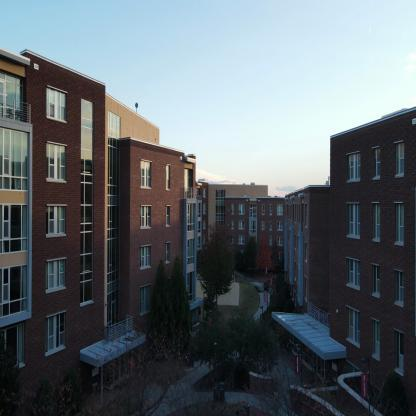Wolf Ridge: (1, 28, 415, 388)
